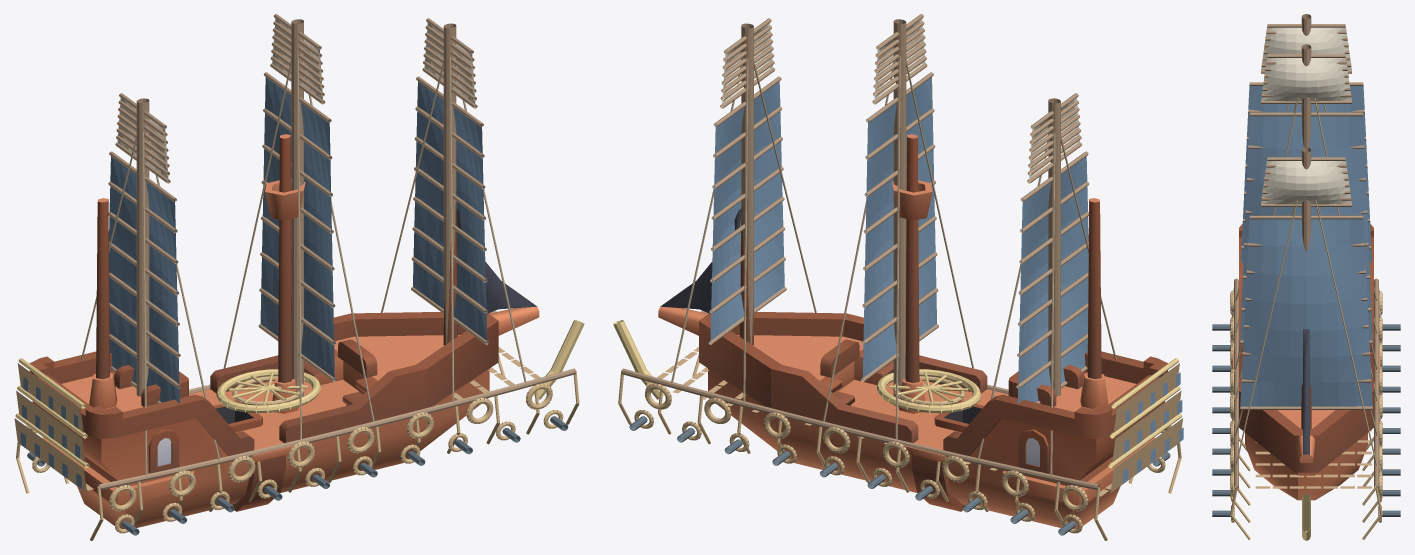
File: atlantis_carrier-custom.glb
The picture shows the model from 3 angles, left to right: view 1: azimuth 30°, elevation 25°; view 2: azimuth 150°, elevation 25°; view 3: azimuth 270°, elevation 25°; orthographic projection. The views are drawn at different scales.
Parts seen in each view (by area): view 1: atlantis_carrier-custom-geometry, ship-pirate-large; view 2: atlantis_carrier-custom-geometry, ship-pirate-large; view 3: atlantis_carrier-custom-geometry, ship-pirate-large.
Part boxes in pixels (left/top/right/bottom): atlantis_carrier-custom-geometry: left=14, top=14, right=584, bottom=540; ship-pirate-large: left=29, top=134, right=539, bottom=528; atlantis_carrier-custom-geometry: left=613, top=14, right=1183, bottom=540; ship-pirate-large: left=658, top=134, right=1167, bottom=529; atlantis_carrier-custom-geometry: left=1212, top=14, right=1400, bottom=540; ship-pirate-large: left=1233, top=224, right=1379, bottom=500.
Size of the model in its own units: 46.82 by 38 by 16.
Materials: 9 (1 with a texture image).
